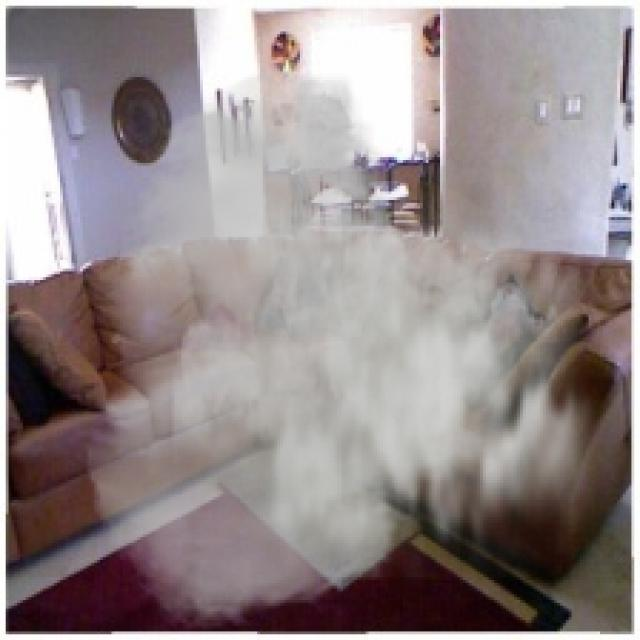smoke: (83, 66, 623, 634)
